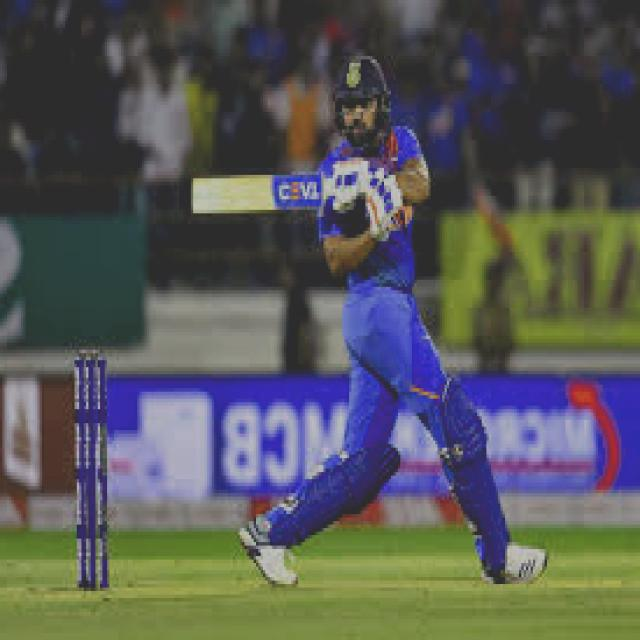toe: (185, 175, 209, 216)
